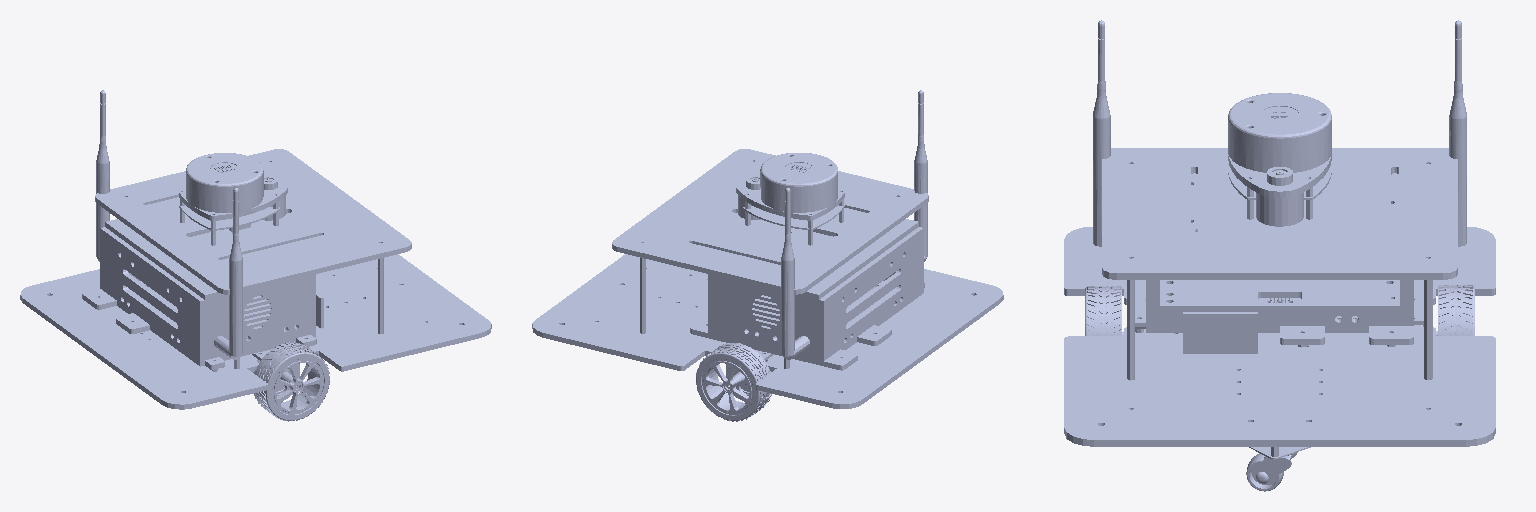
robot.urdf — mobile:
<?xml version="1.0" encoding="utf-8"?>
<!-- This URDF was automatically created by SolidWorks to URDF Exporter! Originally created by Stephen Brawner (brawner@gmail.com) 
     Commit Version: 1.6.0-4-g7f85cfe  Build Version: 1.6.7995.38578
     For more information, please see http://wiki.ros.org/sw_urdf_exporter -->
<robot
  name="mobile">



  <gazebo>
    <plugin name="differential_drive_controller" filename="libgazebo_ros_diff_drive.so">
      <leftJoint>left_wheel_joint</leftJoint>
      <rightJoint>right_wheel_joint</rightJoint>
      <robotBaseFrame>base_footprint</robotBaseFrame>
      <wheelSeparation>0.232</wheelSeparation>
      <wheelDiameter>0.068</wheelDiameter>
      <publishWheelJointState>true</publishWheelJointState>
    </plugin>
  </gazebo>

  <link
    name="base_footprint">
    <visual>
      <origin
        xyz="0 0 0"
        rpy="0 0 0" />
      <geometry>
        <mesh
          filename="package://mobile/meshes/base_footprint.STL" />
      </geometry>
      <material
        name="">
        <color
          rgba="0.79216 0.81961 0.93333 1" />
      </material>
    </visual>
    <collision>
      <origin
        xyz="0 0 0"
        rpy="0 0 0" />
      <geometry>
        <mesh
          filename="package://mobile/meshes/base_footprint.STL" />
      </geometry>
    </collision>
  </link>
  <link
    name="base_link">
    <inertial>
      <origin
        xyz="0.013486 0.00027807 0.035312"
        rpy="0 0 0" />
      <mass
        value="0.5" />
      <inertia
        ixx="0.0049527"
        ixy="-1.2455E-06"
        ixz="1.1549E-06"
        iyy="0.0059425"
        iyz="-2.1498E-06"
        izz="0.01065" />
    </inertial>
    <visual>
      <origin
        xyz="0 0 0"
        rpy="0 0 0" />
      <geometry>
        <mesh
          filename="package://mobile/meshes/base_link.STL" />
      </geometry>
      <material
        name="">
        <color
          rgba="0.79216 0.81961 0.93333 1" />
      </material>
    </visual>
    <collision>
      <origin
        xyz="0 0 0"
        rpy="0 0 0" />
      <geometry>
        <mesh
          filename="package://mobile/meshes/base_link.STL" />
      </geometry>
    </collision>
  </link>
  <joint
    name="base"
    type="fixed">
    <origin
      xyz="0.001 0 0.046"
      rpy="0 0 0" />
    <parent
      link="base_footprint" />
    <child
      link="base_link" />
    <axis
      xyz="0 0 0" />
    <limit
      effort="200"
      velocity="15" />
  </joint>
  <link
    name="left_wheel">
    <inertial>
      <origin
        xyz="3.1496E-06 0.0032166 8.5198E-06"
        rpy="0 0 0" />
      <mass
        value="0.044423" />
      <inertia
        ixx="2.014E-05"
        ixy="-2.3813E-10"
        ixz="5.5197E-09"
        iyy="3.5561E-05"
        iyz="2.3361E-11"
        izz="2.0149E-05" />
    </inertial>
    <visual>
      <origin
        xyz="0 0 0"
        rpy="0 0 0" />
      <geometry>
        <mesh
          filename="package://mobile/meshes/left_wheel.STL" />
      </geometry>
      <material
        name="">
        <color
          rgba="0.79216 0.81961 0.93333 1" />
      </material>
    </visual>
    <collision>
      <origin
        xyz="0 0 0"
        rpy="0 0 0" />
      <geometry>
        <mesh
          filename="package://mobile/meshes/left_wheel.STL" />
      </geometry>
    </collision>
  </link>
  <joint
    name="left_wheel_joint"
    type="continuous">
    <origin
      xyz="-0.001 0.116 -0.012"
      rpy="0 0 0" />
    <parent
      link="base_link" />
    <child
      link="left_wheel" />
    <axis
      xyz="0 1 0" />
    <limit
      effort="200"
      velocity="15" />
  </joint>
  <link
    name="right_wheel">
    <inertial>
      <origin
        xyz="3.1496E-06 -0.0032166 -8.5198E-06"
        rpy="0 0 0" />
      <mass
        value="0.044423" />
      <inertia
        ixx="2.014E-05"
        ixy="2.3813E-10"
        ixz="-5.5197E-09"
        iyy="3.5561E-05"
        iyz="2.3361E-11"
        izz="2.0149E-05" />
    </inertial>
    <visual>
      <origin
        xyz="0 0 0"
        rpy="0 0 0" />
      <geometry>
        <mesh
          filename="package://mobile/meshes/right_wheel.STL" />
      </geometry>
      <material
        name="">
        <color
          rgba="0.79216 0.81961 0.93333 1" />
      </material>
    </visual>
    <collision>
      <origin
        xyz="0 0 0"
        rpy="0 0 0" />
      <geometry>
        <mesh
          filename="package://mobile/meshes/right_wheel.STL" />
      </geometry>
    </collision>
  </link>
  <joint
    name="right_wheel_joint"
    type="continuous">
    <origin
      xyz="0.001 -0.116 -0.012"
      rpy="0 0 0" />
    <parent
      link="base_link" />
    <child
      link="right_wheel" />
    <axis
      xyz="0 1 0" />
    <limit
      effort="200"
      velocity="15" />
  </joint>
  <link
    name="linkphutren">
    <inertial>
      <origin
        xyz="-0.00082709 -0.0039303 -0.0093134"
        rpy="0 0 0" />
      <mass
        value="0.5" />
      <inertia
        ixx="6.3732E-08"
        ixy="1.1744E-08"
        ixz="-2.8529E-09"
        iyy="1.1707E-07"
        iyz="-1.3557E-08"
        izz="1.1609E-07" />
    </inertial>
    <visual>
      <origin
        xyz="0 0 0"
        rpy="0 0 0" />
      <geometry>
        <mesh
          filename="package://mobile/meshes/linkphutren.STL" />
      </geometry>
      <material
        name="">
        <color
          rgba="0.79216 0.81961 0.93333 1" />
      </material>
    </visual>
    <collision>
      <origin
        xyz="0 0 0"
        rpy="0 0 0" />
      <geometry>
        <mesh
          filename="package://mobile/meshes/linkphutren.STL" />
      </geometry>
    </collision>
  </link>
  <joint
    name="phutren"
    type="continuous">
    <origin
      xyz="0.17256 -7.5919E-05 -0.016"
      rpy="0 0 0" />
    <parent
      link="base_link" />
    <child
      link="linkphutren" />
    <axis
      xyz="0 0 1" />
    <limit
      effort="200"
      velocity="15" />
  </joint>
  <link
    name="linkphuduoi">
    <inertial>
      <origin
        xyz="-3.7192E-14 4.5602E-14 4.91E-14"
        rpy="0 0 0" />
      <mass
        value="0.8" />
      <inertia
        ixx="3.2772E-07"
        ixy="-2.4466E-08"
        ixz="-2.4678E-22"
        iyy="2.1661E-07"
        iyz="-2.5883E-23"
        izz="2.1147E-07" />
    </inertial>
    <visual>
      <origin
        xyz="0 0 0"
        rpy="0 0 0" />
      <geometry>
        <mesh
          filename="package://mobile/meshes/linkphuduoi.STL" />
      </geometry>
      <material
        name="">
        <color
          rgba="0.79216 0.81961 0.93333 1" />
      </material>
    </visual>
    <collision>
      <origin
        xyz="0 0 0"
        rpy="0 0 0" />
      <geometry>
        <mesh
          filename="package://mobile/meshes/linkphuduoi.STL" />
      </geometry>
    </collision>
  </link>
  <joint
    name="phuduoi"
    type="continuous">
    <origin
      xyz="-0.0020504 -0.0097434 -0.0175"
      rpy="0 0 0" />
    <parent
      link="linkphutren" />
    <child
      link="linkphuduoi" />
    <axis
      xyz="0.97857 -0.20593 0" />
    <limit
      effort="50"
      velocity="15" />
  </joint>
  <link
    name="laser">
    <inertial>
      <origin
        xyz="0.0067663 -9.2043E-05 -0.0073498"
        rpy="0 0 0" />
      <mass
        value="0.025" />
      <inertia
        ixx="7.8558E-05"
        ixy="-1.0271E-07"
        ixz="2.0286E-05"
        iyy="0.00012278"
        iyz="-3.97E-07"
        izz="0.00014048" />
    </inertial>
    <visual>
      <origin
        xyz="0 0 0"
        rpy="0 0 0" />
      <geometry>
        <mesh
          filename="package://mobile/meshes/laser.STL" />
      </geometry>
      <material
        name="">
        <color
          rgba="0.79216 0.81961 0.93333 1" />
      </material>
    </visual>
    <collision>
      <origin
        xyz="0 0 0"
        rpy="0 0 0" />
      <geometry>
        <mesh
          filename="package://mobile/meshes/laser.STL" />
      </geometry>
    </collision>
  </link>
  <joint
    name="lidar"
    type="fixed">
    <origin
      xyz="0 0 0.13765"
      rpy="0 0 0" />
    <parent
      link="base_link" />
    <child
      link="laser" />
    <axis
      xyz="0 0 0" />
    <limit
      effort="200"
      velocity="1" />
  </joint>
  <link
    name="IMU">
    <inertial>
      <origin
        xyz="-0.00091999 -0.00085321 -0.00079909"
        rpy="0 0 0" />
      <mass
        value="0.00052864" />
      <inertia
        ixx="9.4946E-09"
        ixy="-6.007E-11"
        ixz="-5.5875E-12"
        iyy="5.8434E-09"
        iyz="3.6982E-12"
        izz="1.3859E-08" />
    </inertial>
    <visual>
      <origin
        xyz="0 0 0"
        rpy="0 0 0" />
      <geometry>
        <mesh
          filename="package://mobile/meshes/IMU.STL" />
      </geometry>
      <material
        name="">
        <color
          rgba="0.79216 0.81961 0.93333 1" />
      </material>
    </visual>
    <collision>
      <origin
        xyz="0 0 0"
        rpy="0 0 0" />
      <geometry>
        <mesh
          filename="package://mobile/meshes/IMU.STL" />
      </geometry>
    </collision>
  </link>
  <joint
    name="mpu"
    type="fixed">
    <origin
      xyz="0.00072068 0.0007637 0.0109"
      rpy="0 0 0" />
    <parent
      link="base_link" />
    <child
      link="IMU" />
    <axis
      xyz="0 0 0" />
  </joint>
  <link
    name="UWB">
    <inertial>
      <origin
        xyz="-0.0015 -1.3878E-17 -5.5511E-17"
        rpy="0 0 0" />
      <mass
        value="0.0045" />
      <inertia
        ixx="1.275E-06"
        ixy="3.7734E-21"
        ixz="-1.0942E-21"
        iyy="3.4087E-07"
        iyz="-1.2668E-21"
        izz="9.4087E-07" />
    </inertial>
    <visual>
      <origin
        xyz="0 0 0"
        rpy="0 0 0" />
      <geometry>
        <mesh
          filename="package://mobile/meshes/UWB.STL" />
      </geometry>
      <material
        name="">
        <color
          rgba="0.79216 0.81961 0.93333 1" />
      </material>
    </visual>
    <collision>
      <origin
        xyz="0 0 0"
        rpy="0 0 0" />
      <geometry>
        <mesh
          filename="package://mobile/meshes/UWB.STL" />
      </geometry>
    </collision>
  </link>
  <joint
    name="tag"
    type="fixed">
    <origin
      xyz="0.0655 -0.040116 0.02"
      rpy="0 0 0" />
    <parent
      link="base_link" />
    <child
      link="UWB" />
    <axis
      xyz="0 0 0" />
  </joint>
  
  <!-- /////////////////////////transmission/////////////////////////-->
  <transmission name="left_wheel_trans">
    <type>transmission_interface/SimpleTransmission</type>
    <joint name="left_wheel_joint">
        <hardwareInterface>hardware_interface/VelocityJointInterface</hardwareInterface>
    </joint>
    <actuator name="left_motor">
        <hardwareInterface>hardware_interface/VelocityJointInterface</hardwareInterface>
        <mechanicalReduction>1.0</mechanicalReduction>
    </actuator>
  </transmission>

  <transmission name="right_wheel_trans">
    <type>transmission_interface/SimpleTransmission</type>
    <joint name="right_wheel_joint">
        <hardwareInterface>hardware_interface/VelocityJointInterface</hardwareInterface>
    </joint>
    <actuator name="right_motor">
        <hardwareInterface>hardware_interface/VelocityJointInterface</hardwareInterface>
        <mechanicalReduction>1.0</mechanicalReduction>
   </actuator>
  </transmission>


  <!-- ///////////////////////gazebo////////////////////////-->
  <gazebo reference="linkphutren">
	<selfCollide>true</selfCollide>
  </gazebo>
  
  <gazebo reference="linkphuduoi">
	<selfCollide>true</selfCollide>
  </gazebo>
  
  <gazebo reference="left_wheel">
	<selfCollide>true</selfCollide>
  </gazebo>
  
  <gazebo reference="right_wheel">
	<selfCollide>true</selfCollide>
  </gazebo>

  <!-- Plugin quét lidar -->
  <gazebo reference="laser">
    <sensor type="ray" name="head_hokuyo_sensor">
      <pose>0 0 0 0 0 0</pose>
      <visualize>true</visualize>
      <update_rate>10</update_rate> 
      <ray>
        <scan>
          <horizontal>
            <samples>720</samples>
            <resolution>1</resolution>
            <min_angle>-3.1415</min_angle>
            <max_angle>3.1415</max_angle>
          </horizontal>
        </scan>
        <range>
          <min>0.15</min>
          <max>10.0</max>
          <resolution>0.01</resolution>
        </range>
        <noise>
          <type>gaussian</type>
          <mean>0.0</mean>
          <stddev>0.01</stddev>
        </noise>
      </ray>
      <plugin filename="libgazebo_ros_laser.so" name="gazebo_ros_head_hokuyo_controller">
        <topicName>/scan</topicName>
        <frameName>base_footprint</frameName>
      </plugin>
    </sensor>
  </gazebo>
  

  <gazebo reference="IMU">
    <sensor type="imu" name="imu_sensor">
      <pose>0 0 0 0 0 0</pose>
      <update_rate>100.0</update_rate>
      <imu>
        <topicName>imu/data</topicName>
        <gaussianNoise>0.01</gaussianNoise>
      </imu>
      <plugin name="gazebo_ros_imu" filename="libgazebo_ros_imu_sensor.so">
        <alwaysOn>true</alwaysOn>
        <updateRate>100.0</updateRate>
        <bodyName>IMU</bodyName>
        <topicName>imu/data</topicName>
        <gaussianNoise>0.01</gaussianNoise>
        <frameName>IMU</frameName>
      </plugin>
    </sensor>
  </gazebo>


  <gazebo reference="left_wheel_joint">
    <joint>
      <physics>
        <ode>
          <fudge_factor>0.1</fudge_factor>
          <limit>
            <cfm>0.0</cfm>
            <erp>0.2</erp>
          </limit>
          <axis>
            <limit>
              <effort>10.0</effort>
              <velocity>10.0</velocity>
            </limit>
          </axis>
       </ode>
      </physics>
    </joint>
  </gazebo>

  <gazebo reference="right_wheel_joint">
    <joint>
     <physics>
       <ode>
         <fudge_factor>0.1</fudge_factor>
          <limit>
           <cfm>0.0</cfm>
           <erp>0.2</erp>
          </limit>
          <axis>
           <limit>
             <effort>10.0</effort>
             <velocity>10.0</velocity>
           </limit>
          </axis>
        </ode>
      </physics>
   </joint>
  </gazebo>

  <gazebo reference="phuduoi">
    <joint>
      <physics>
        <ode>
          <limit>
            <cfm>0.000001</cfm>
            <erp>0.8</erp>
          </limit>
          <axis>
            <limit>
              <effort>50.0</effort>
              <velocity>15.0</velocity>
            </limit>
            <dynamics>
              <damping>0.5</damping>
              <friction>0.1</friction>
            </dynamics>
          </axis>
        </ode>
      </physics>
    </joint>
  </gazebo>



</robot>

--- Facts derived from the render (not from the file) ---
Views: 3 orthographic renders of the robot side by side, from view 1: azimuth 30°, elevation 25°; view 2: azimuth 150°, elevation 25°; view 3: azimuth 270°, elevation 25°.
Model mobile with 9 links and 8 joints (4 continuous, 4 fixed), rooted at base_footprint, posed all joints at 0.
Visible links, largest first — view 1: base_link, base_footprint, laser, right_wheel; view 2: base_link, base_footprint, laser, left_wheel; view 3: base_link, base_footprint, laser, UWB, left_wheel, right_wheel, linkphutren, linkphuduoi.
Link boxes in pixels (x1,y1,x2,y2): base_link: (82, 90, 411, 399); base_footprint: (20, 254, 491, 409); laser: (179, 153, 287, 245); right_wheel: (254, 342, 329, 421); base_link: (612, 90, 928, 400); base_footprint: (532, 254, 1003, 408); laser: (736, 153, 844, 245); left_wheel: (696, 343, 771, 421); base_link: (1093, 20, 1466, 459); base_footprint: (1064, 227, 1495, 446); laser: (1228, 93, 1331, 226); UWB: (1183, 312, 1257, 353); left_wheel: (1438, 285, 1474, 335); right_wheel: (1085, 286, 1121, 335); linkphutren: (1256, 452, 1297, 483); linkphuduoi: (1246, 453, 1283, 491).
Bounding box of the posed robot: 0.34 × 0.29 × 0.241 m (x, y, z).
9 mesh visuals loaded from 9 distinct referenced files (9 binary STL).
